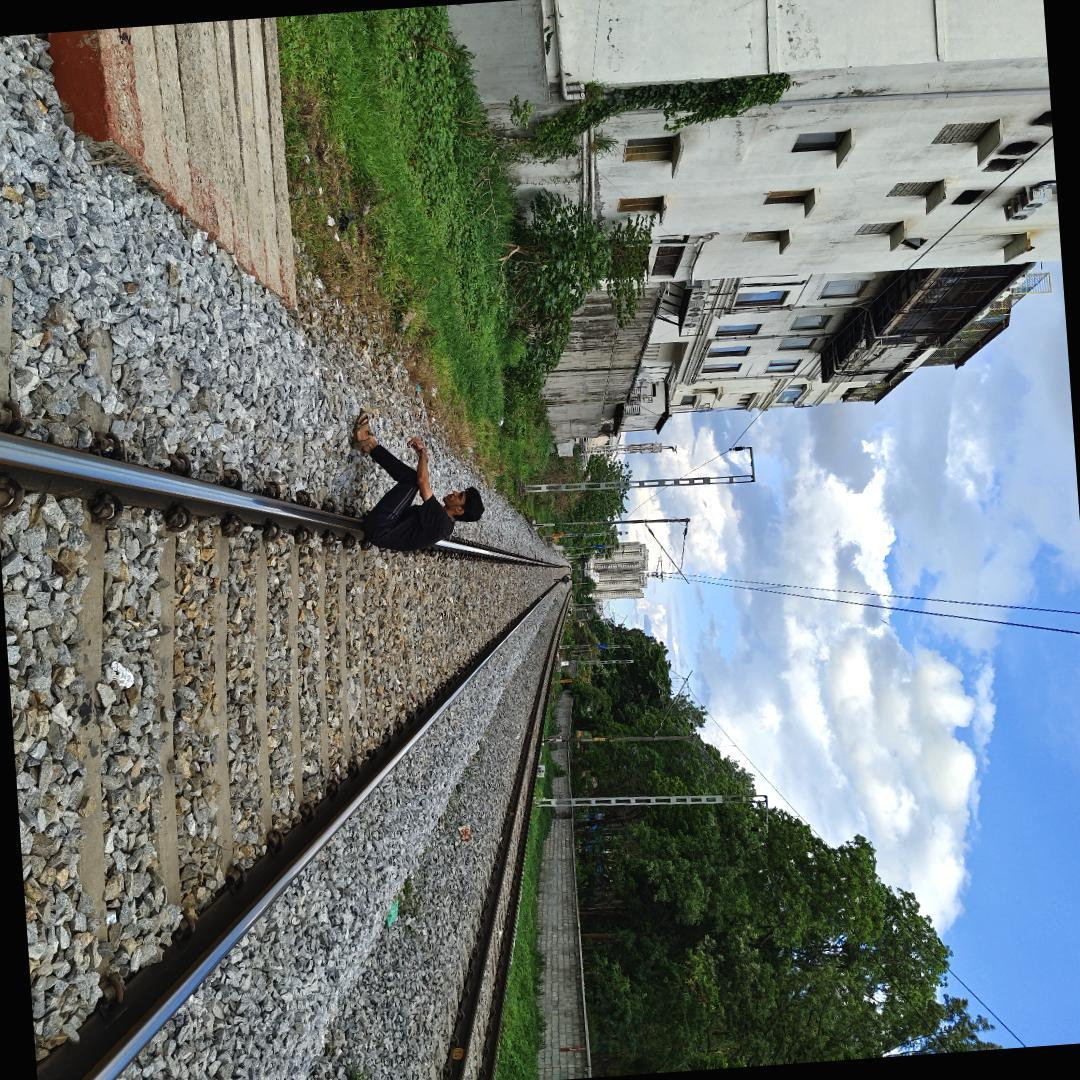sitting: (332, 406, 492, 562)
